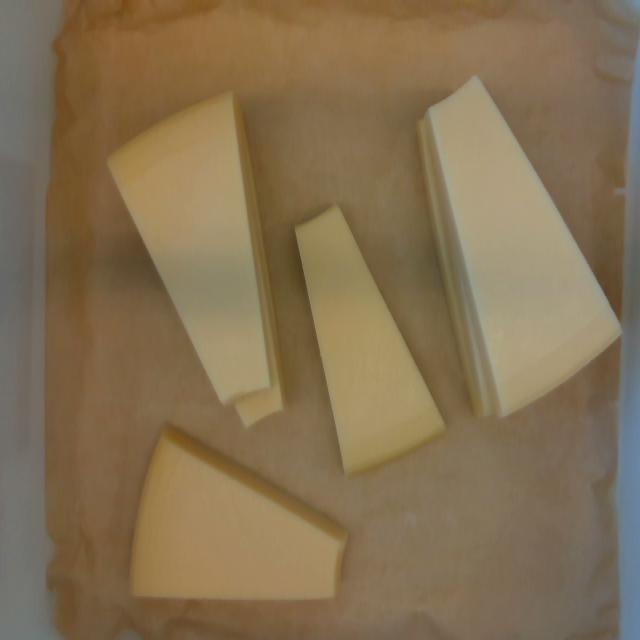Cheese: (429, 79, 619, 416), (109, 93, 281, 425), (296, 207, 443, 475), (132, 431, 346, 597)
